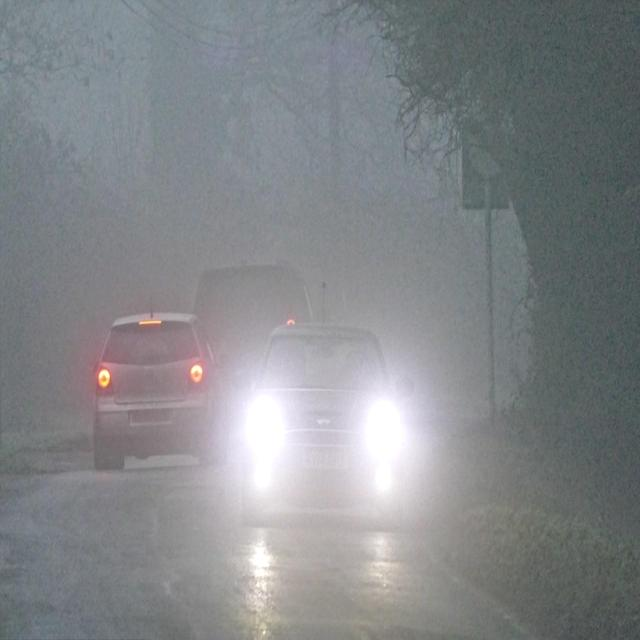Car: (234, 322, 415, 524), (92, 310, 224, 473)
